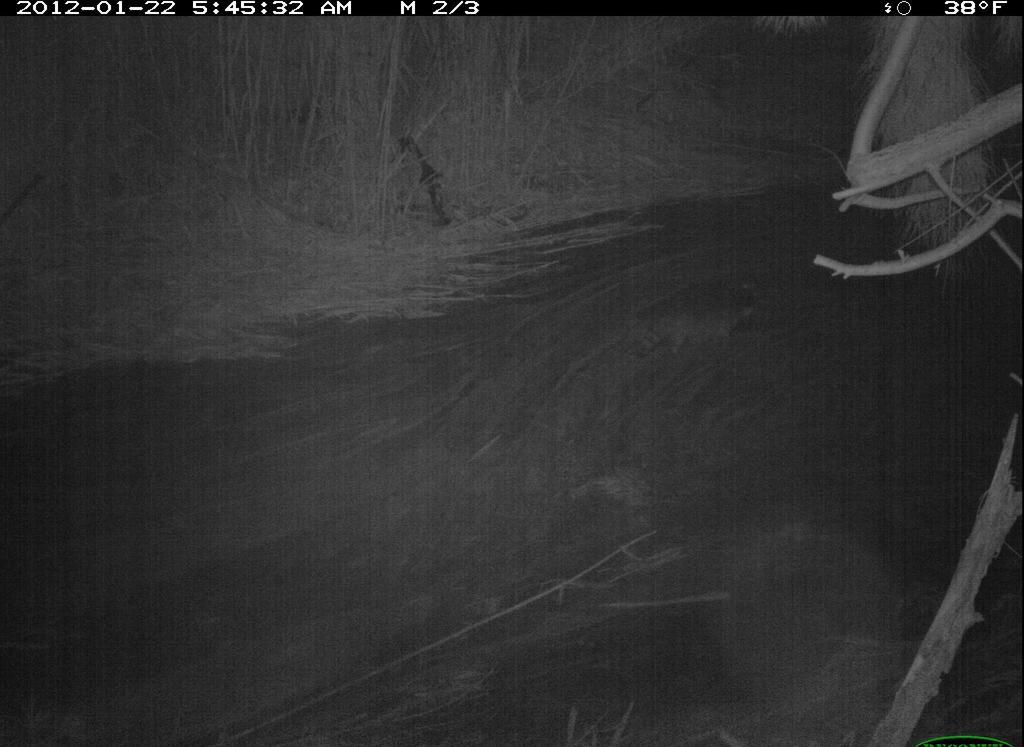raccoon: (617, 273, 774, 364)
